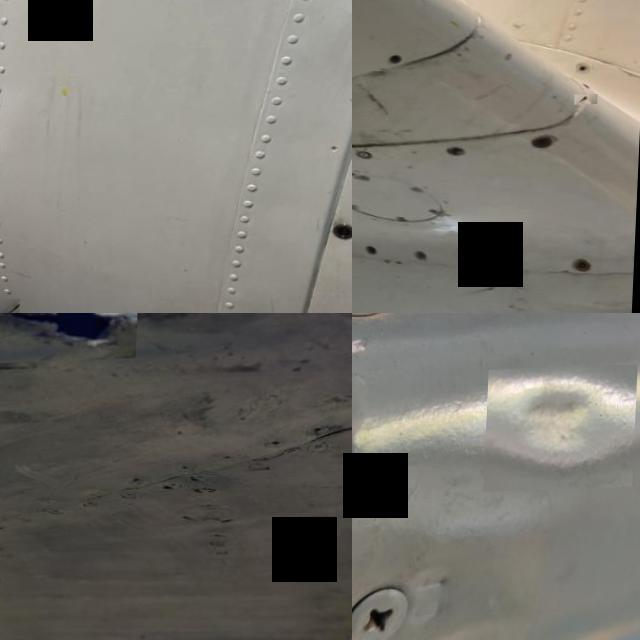Crack: (0, 313, 141, 365), (612, 55, 640, 90), (578, 98, 600, 110)
Dent: (487, 367, 640, 494)
Missing_Fastener: (532, 138, 560, 153), (573, 262, 601, 276), (448, 147, 468, 163), (366, 247, 384, 261), (390, 56, 406, 68), (578, 67, 594, 77)
